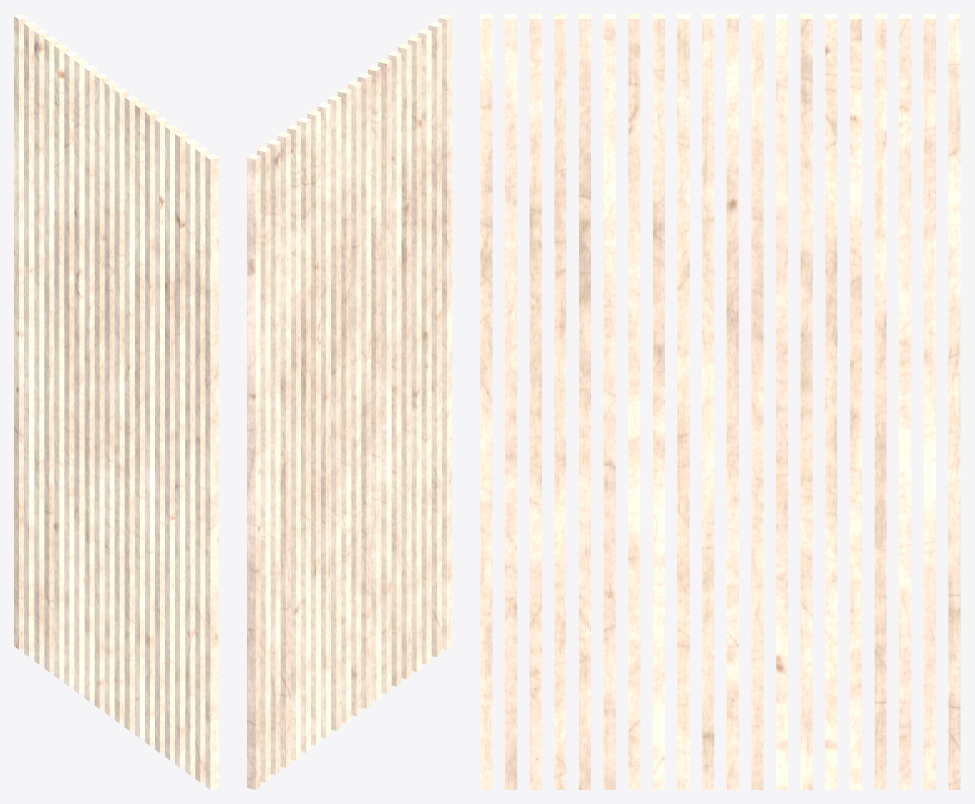
The model's file is SM_WallPlanks.fbx.
The picture shows the model from 3 angles, left to right: view 1: azimuth 30°, elevation 25°; view 2: azimuth 150°, elevation 25°; view 3: azimuth 270°, elevation 25°; orthographic projection. The views are drawn at different scales.
Visible parts, largest first — view 1: SM_WallPlanks; view 2: SM_WallPlanks; view 3: SM_WallPlanks.
Boxes of the visible parts, box(x1,y1,x2,y2) form: SM_WallPlanks: box(14, 14, 218, 789); SM_WallPlanks: box(247, 14, 451, 789); SM_WallPlanks: box(480, 14, 960, 789).
Size of the model in its own units: 5 by 198 by 350.
1 material, 1 textured.
